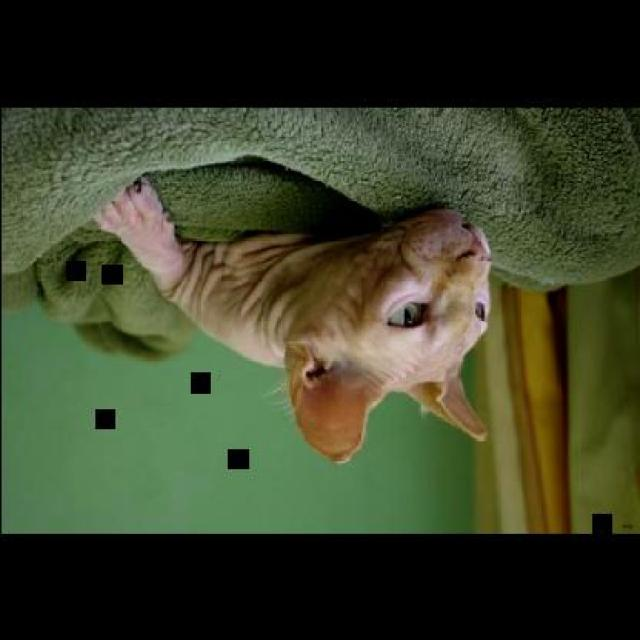unauthorized: (92, 173, 492, 464)
